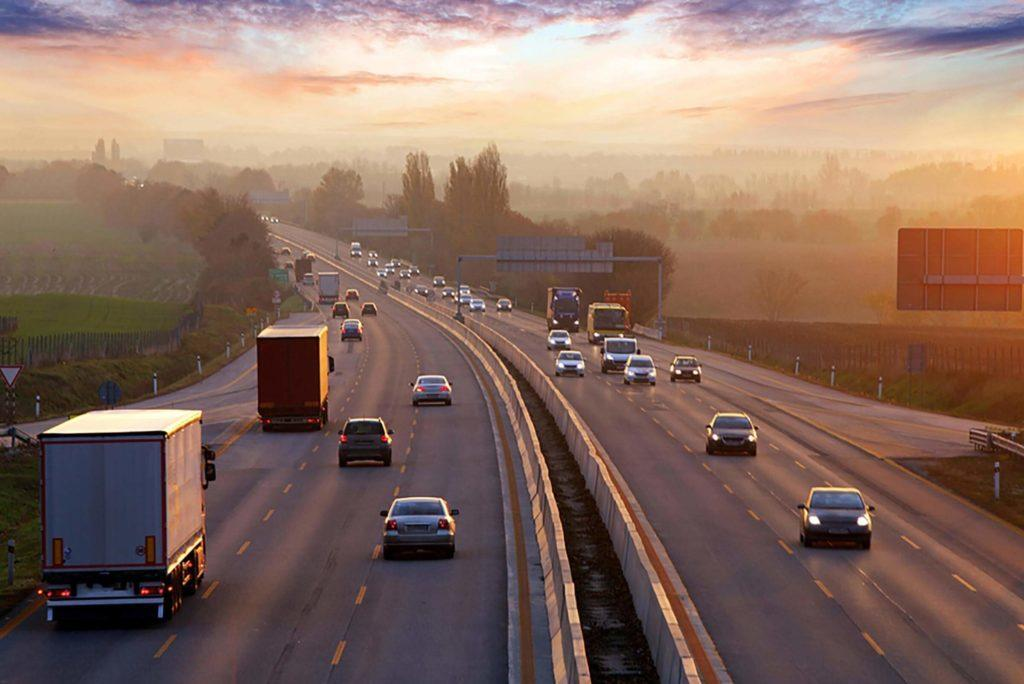car: (30, 403, 212, 633), (249, 317, 342, 437), (793, 480, 875, 550), (379, 495, 463, 557), (334, 414, 395, 470), (703, 406, 763, 456), (538, 283, 591, 333), (583, 299, 636, 346), (413, 366, 455, 411), (624, 349, 663, 396), (661, 350, 708, 386), (549, 345, 590, 380), (313, 270, 346, 303), (539, 324, 575, 353), (330, 299, 358, 321), (338, 317, 364, 339), (339, 281, 365, 303), (490, 291, 515, 313), (346, 237, 367, 262), (356, 299, 383, 318), (426, 270, 448, 292), (466, 297, 488, 313), (455, 279, 473, 298), (366, 251, 383, 271), (388, 255, 401, 271), (397, 273, 414, 285)
